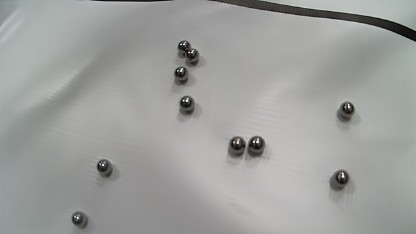ironball: (330, 169, 350, 190), (247, 135, 265, 156), (228, 136, 246, 156), (179, 95, 195, 114), (339, 101, 355, 119), (96, 159, 112, 177), (72, 211, 87, 228), (174, 66, 188, 81), (177, 40, 191, 54), (186, 48, 199, 63)
